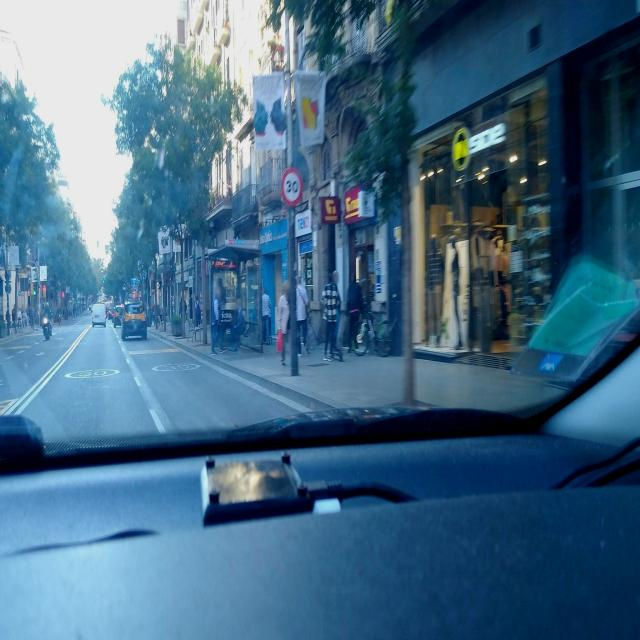bike: (354, 304, 393, 357), (41, 312, 52, 341)
car: (120, 302, 148, 341), (91, 302, 107, 328), (112, 306, 124, 328), (105, 304, 114, 319)
